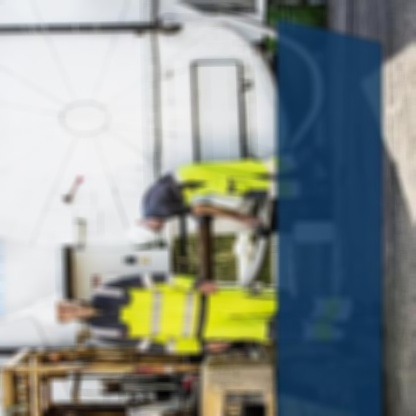vest: (86, 268, 214, 358), (90, 274, 194, 350)
white: (28, 294, 66, 329), (126, 222, 164, 245)
